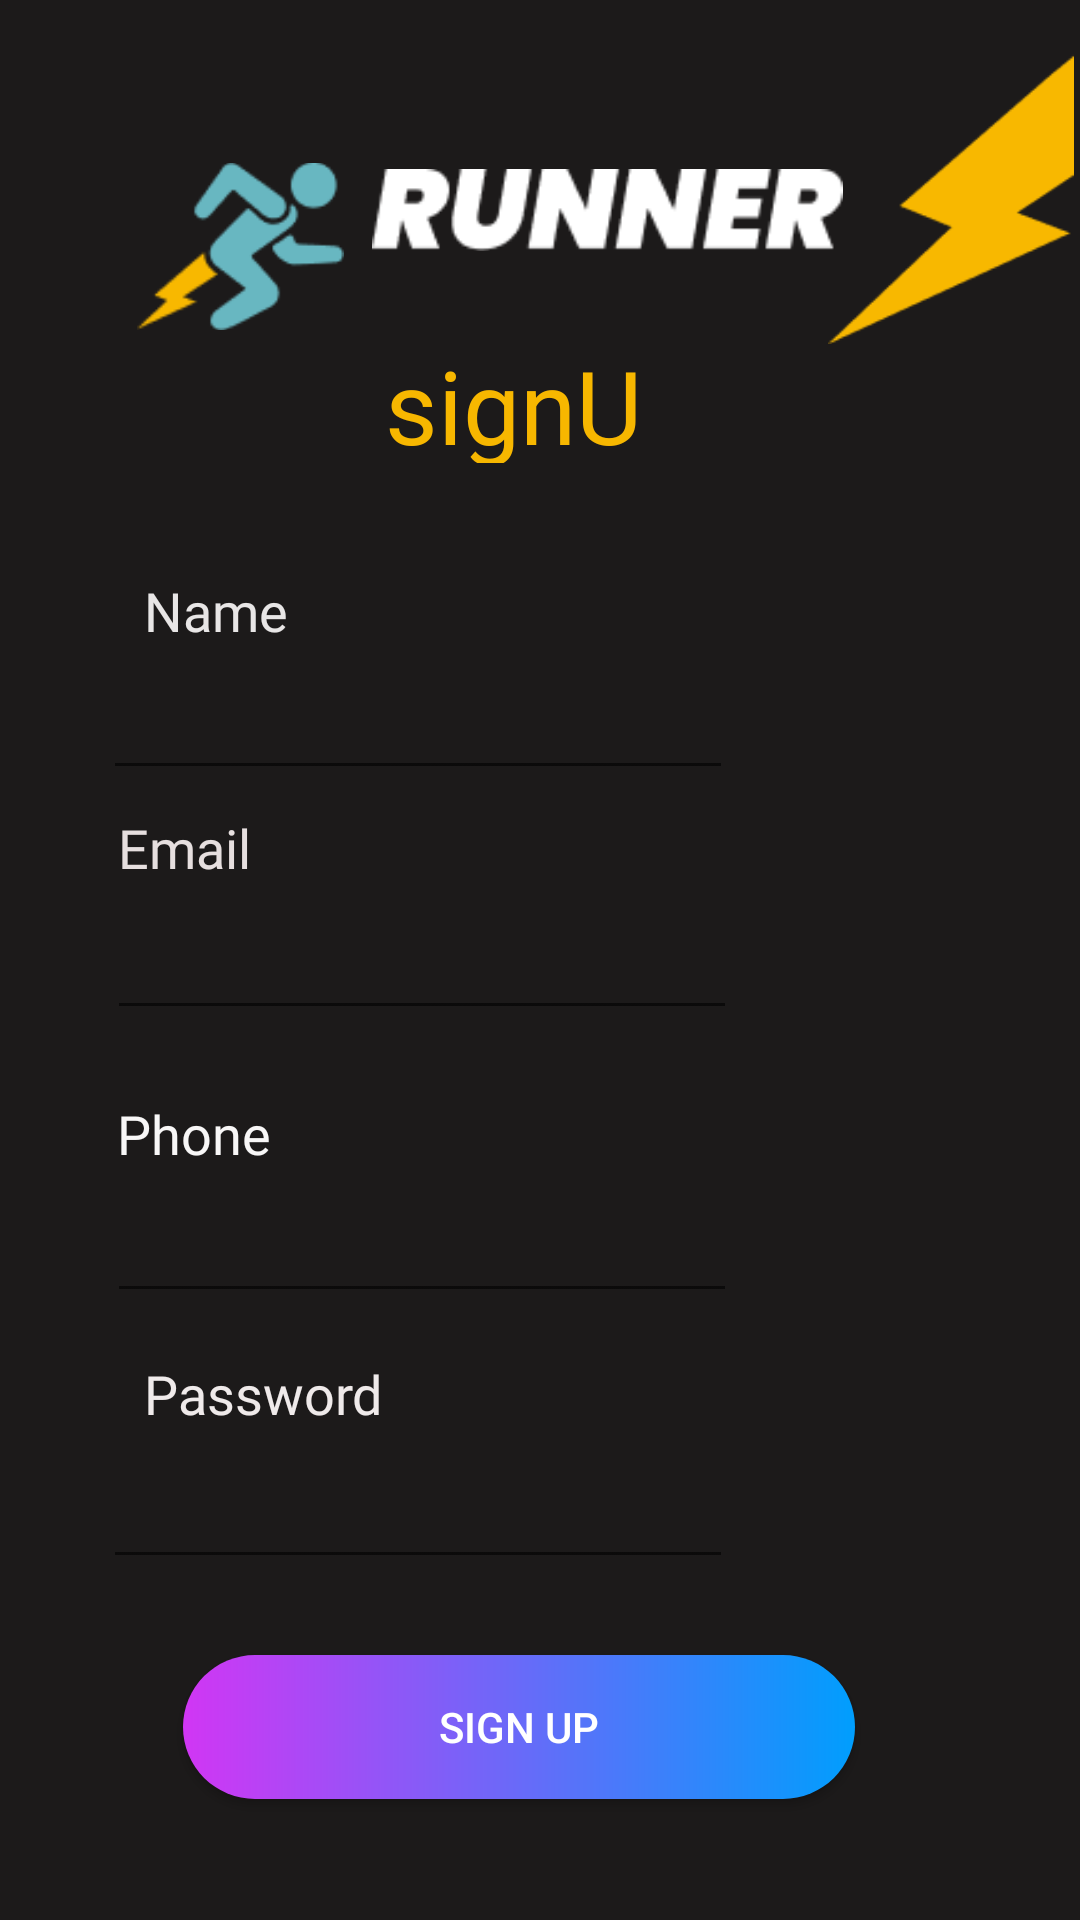

Where to tap for icons on this 1080x1920 app screen, as (x=x, y=y):
bolt: (x=951, y=200)
